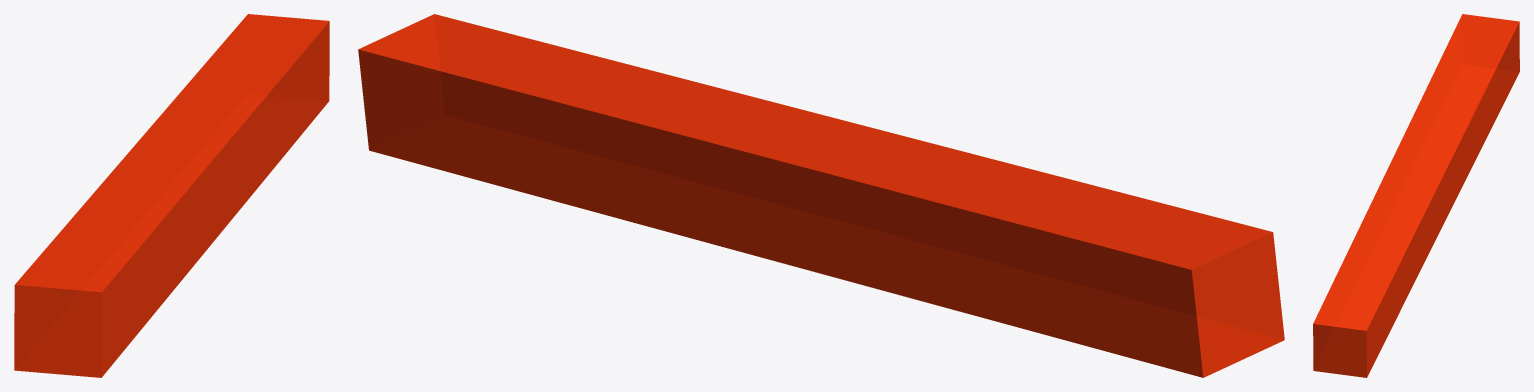
Rendered from Event_421556567_EErechit_10.fbx.
3 views of the same model, side by side, from view 1: azimuth 90°, elevation 25°; view 2: azimuth 150°, elevation 25°; view 3: azimuth 270°, elevation 25° (orthographic). The views are drawn at different scales.
Parts seen in each view (by area): view 1: Model; view 2: Model; view 3: Model.
Boxes of the visible parts, bbox=[...] form: Model: bbox=[14, 14, 329, 377]; Model: bbox=[358, 14, 1284, 377]; Model: bbox=[1313, 14, 1519, 377].
Size of the model in its own units: 0.784 by 0.1694 by 0.2712.
